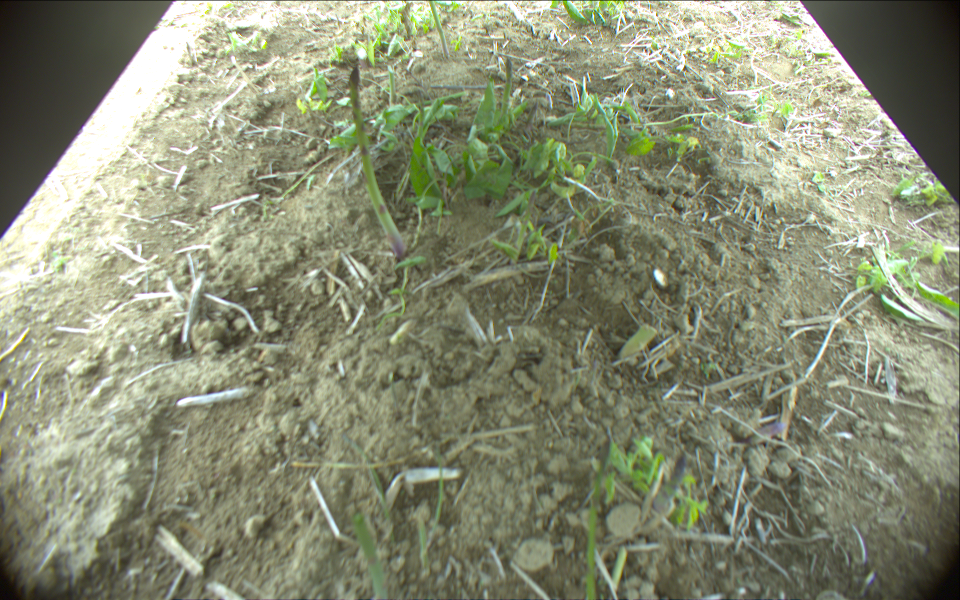aspa: (348, 69, 408, 259), (350, 511, 387, 600), (653, 450, 692, 518), (583, 469, 603, 600), (510, 189, 540, 266), (428, 1, 453, 59), (500, 59, 513, 122), (415, 514, 428, 574), (389, 67, 396, 107)
